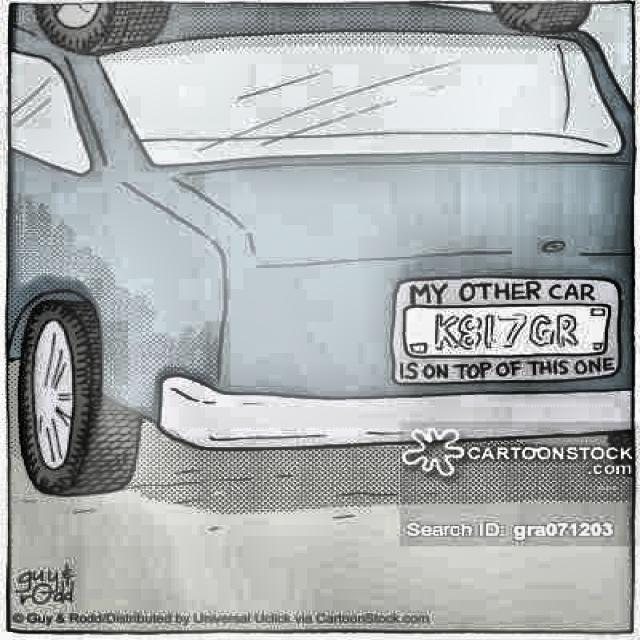license_plate: (406, 304, 603, 358)
